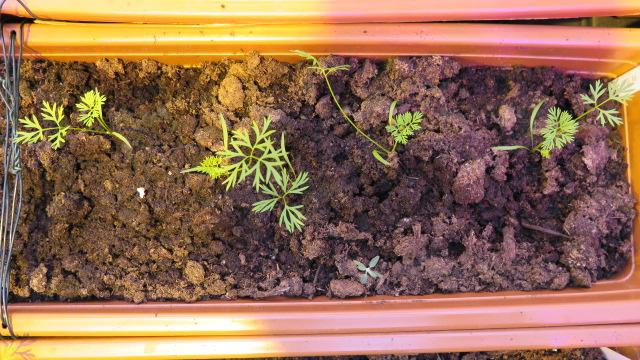crop: (6, 85, 134, 149)
